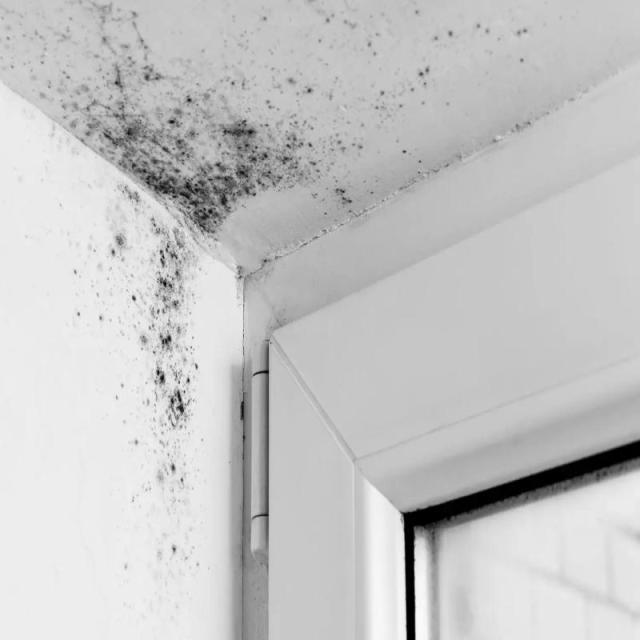stain marks: (16, 9, 258, 578), (262, 8, 583, 198)
